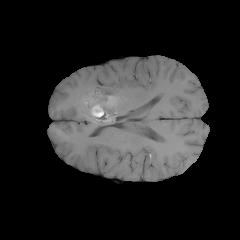glioma: (69, 76, 127, 124)
